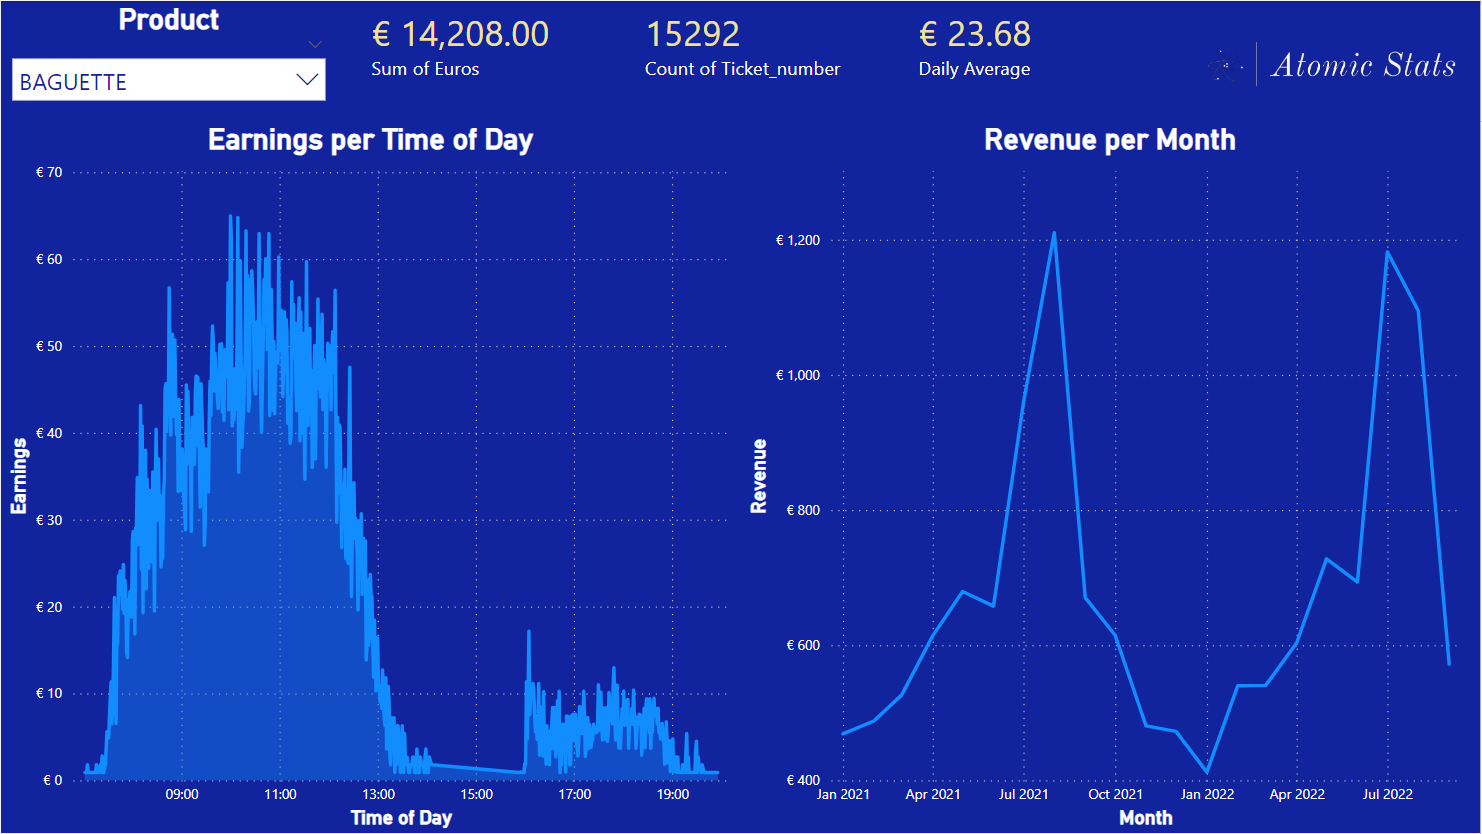

This screenshot's page, from the dashboard's own definition file:
{"tool":"powerbi","page":{"name":"Page 1","canvas":[1280,720],"ordinal":0},"visuals":[{"type":"multiRowCard","title":"Key Performance Indicators","fields":{"Values":["Sum(Bakery sales.Euros)","CountNonNull(Bakery sales.Ticket_number)","Bakery sales.Daily Average"]},"box":[320.6,0,710.1,105.2],"z":0},{"type":"slicer","title":"Product","fields":{"Values":["Bakery sales.Product"]},"box":[0,1.3,290.8,103.9],"z":1000},{"type":"areaChart","title":"Earnings per Time of Day","fields":{"Category":["Bakery sales.Time"],"Y":["Sum(Bakery sales.Euros)"]},"box":[0,105.2,640,615.3],"z":2000},{"type":"lineChart","title":"Revenue per Month","fields":{"Y":["Sum(Bakery sales.Euros)"],"Category":["Bakery sales.Date.Variation.Date Hierarchy.Year","Bakery sales.Date.Variation.Date Hierarchy.Month"]},"box":[640,105.2,640,615.3],"z":3000},{"type":"image","box":[1030.8,1.3,236.3,103.9],"z":4000}]}

Visuals, with their boxes in screenshot pixels (x1, y1, x2, y2), scaled from the page's 1280x720 canvas onto the 1482x834 screenshot:
"Key Performance Indicators" multiRowCard: 371, 0, 1193, 122
"Product" slicer: 0, 2, 337, 122
"Earnings per Time of Day" areaChart: 0, 122, 741, 833
"Revenue per Month" lineChart: 741, 122, 1481, 833
image: 1193, 2, 1467, 122
